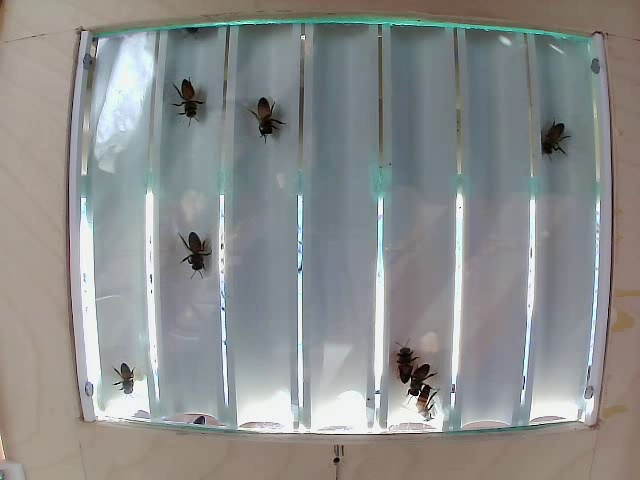bee: (170, 219, 218, 283), (254, 102, 297, 156), (175, 74, 214, 121), (99, 355, 141, 394), (385, 342, 423, 379), (538, 115, 564, 160)
